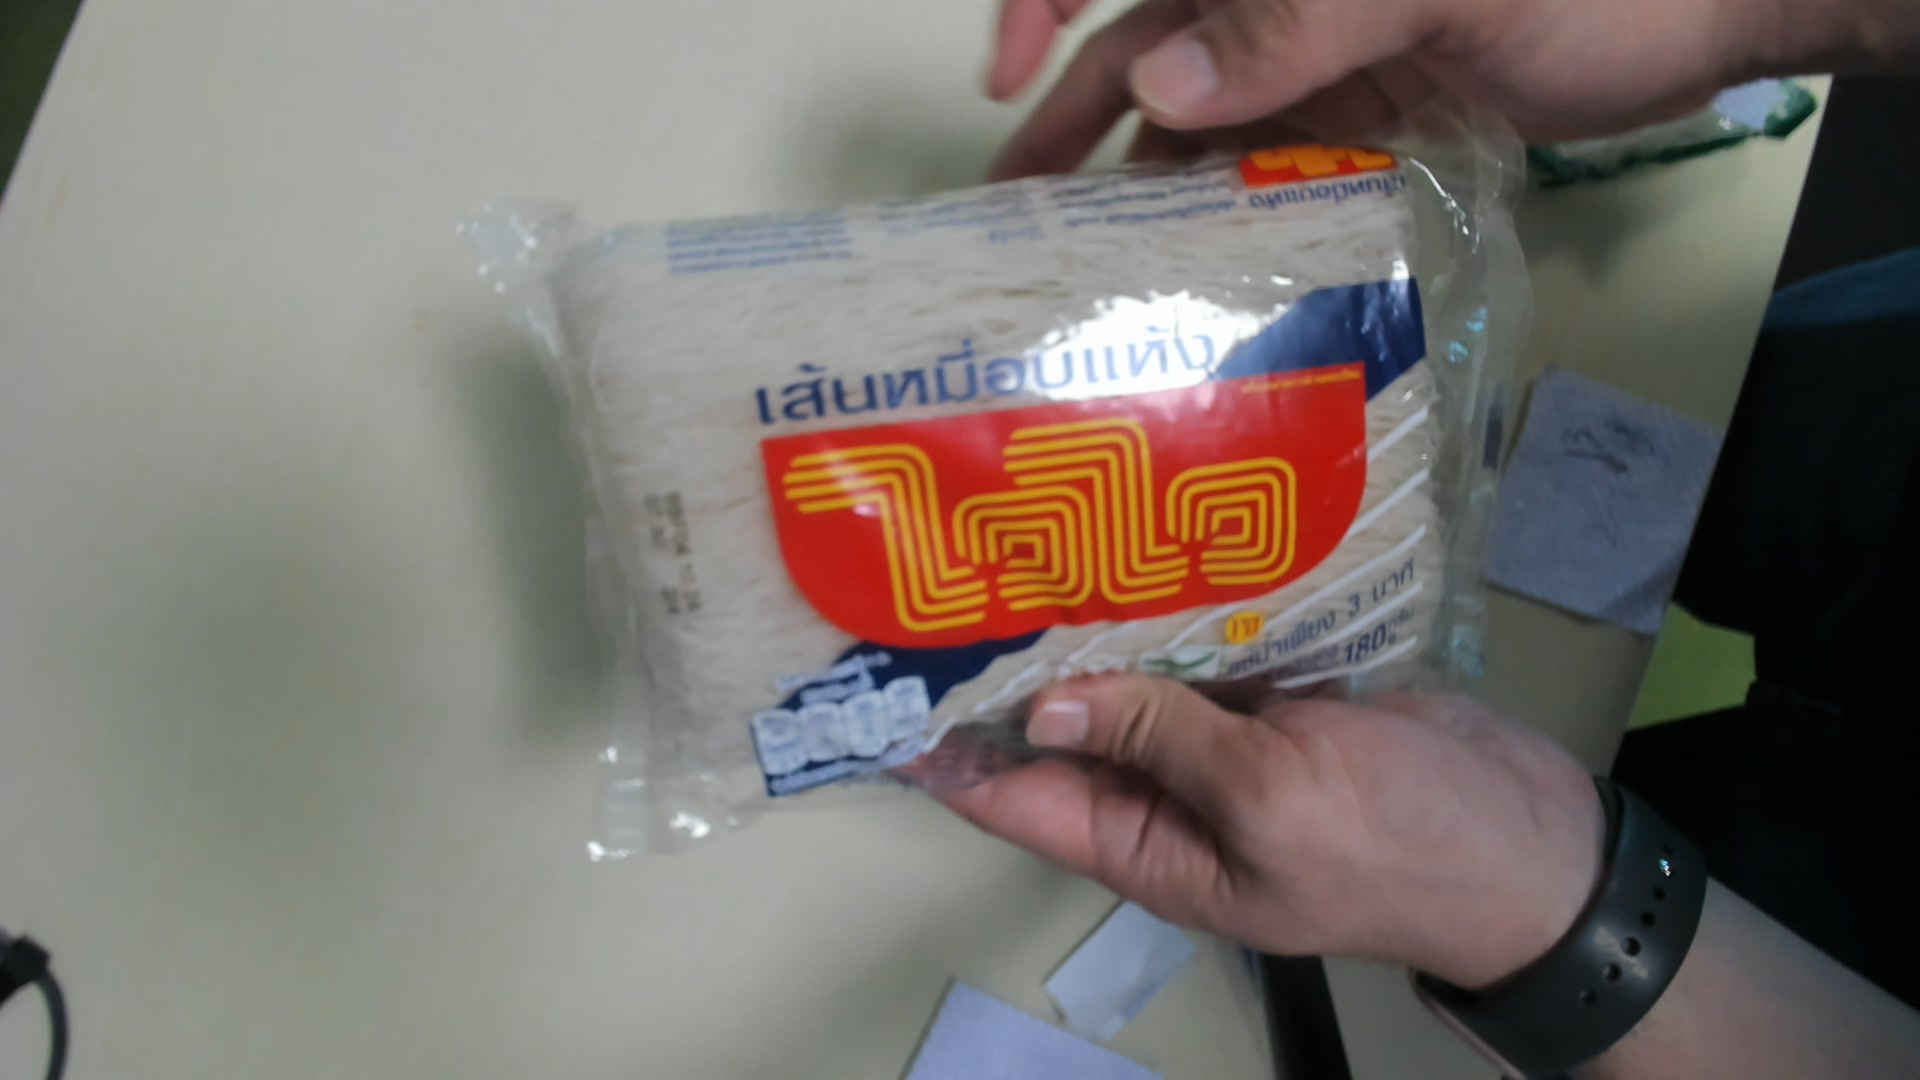BeeHoonVermicelli_100-199g_NonHalal_NonHealthy: (495, 146, 1486, 794)
